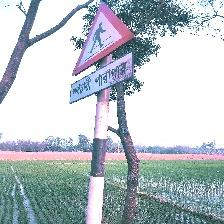Pedestrian-crossing: (69, 0, 136, 106)
